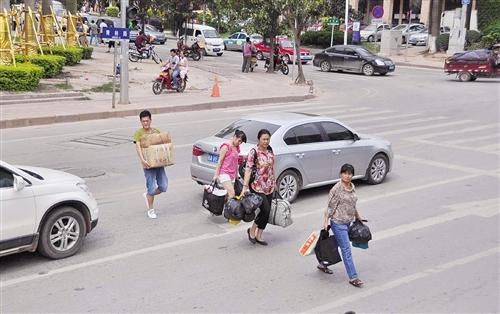car: (191, 113, 390, 210), (1, 137, 105, 262), (308, 40, 390, 80)
motorbike: (149, 68, 194, 94), (173, 40, 209, 61), (130, 43, 162, 63), (265, 52, 289, 77)
person: (306, 160, 370, 289), (128, 100, 173, 221), (252, 135, 292, 242), (228, 126, 269, 227), (206, 124, 247, 222), (167, 48, 191, 81), (239, 34, 256, 75), (133, 32, 148, 52)
